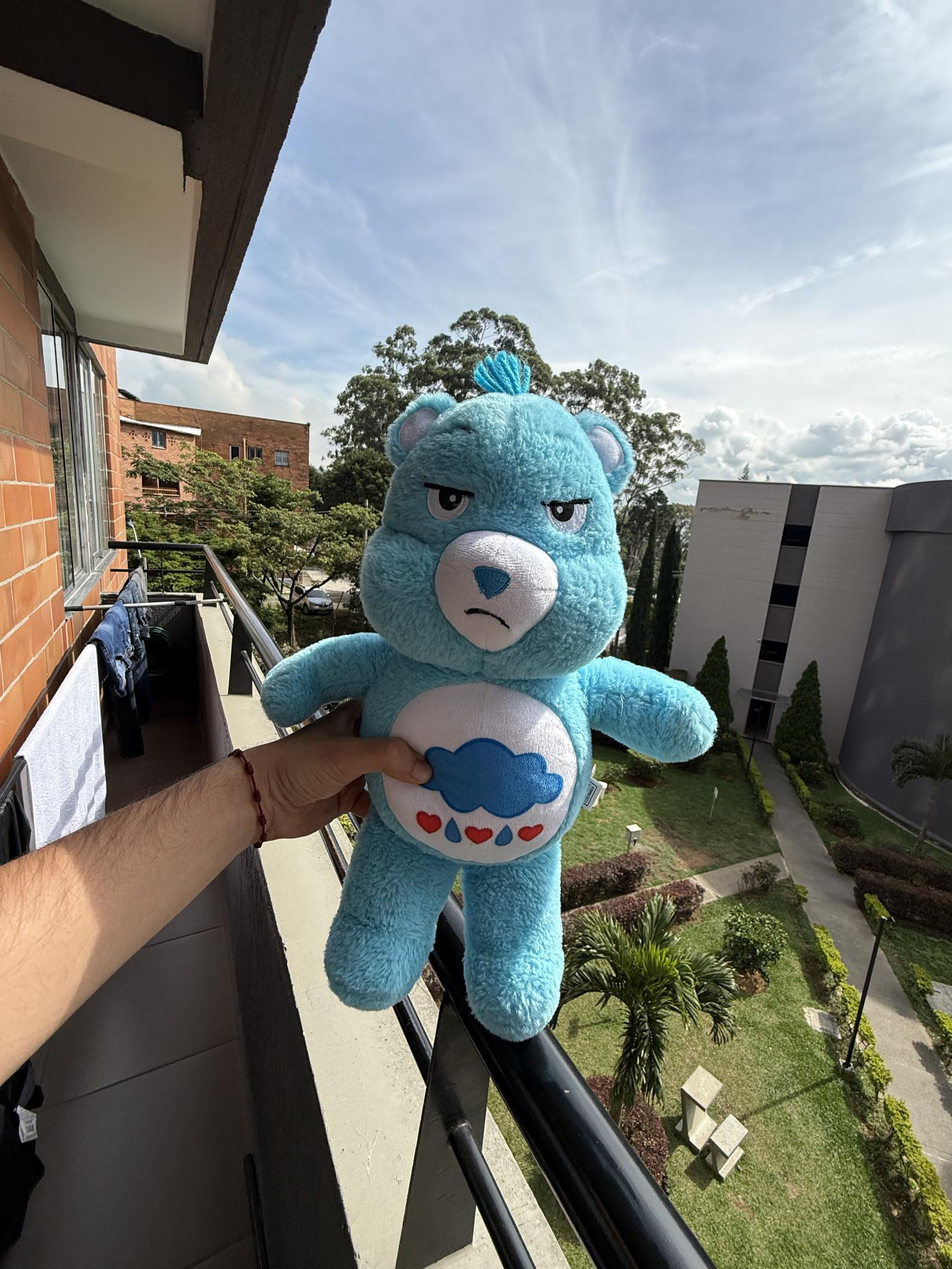peluche_Juan Jose: (316, 390, 649, 1043)
